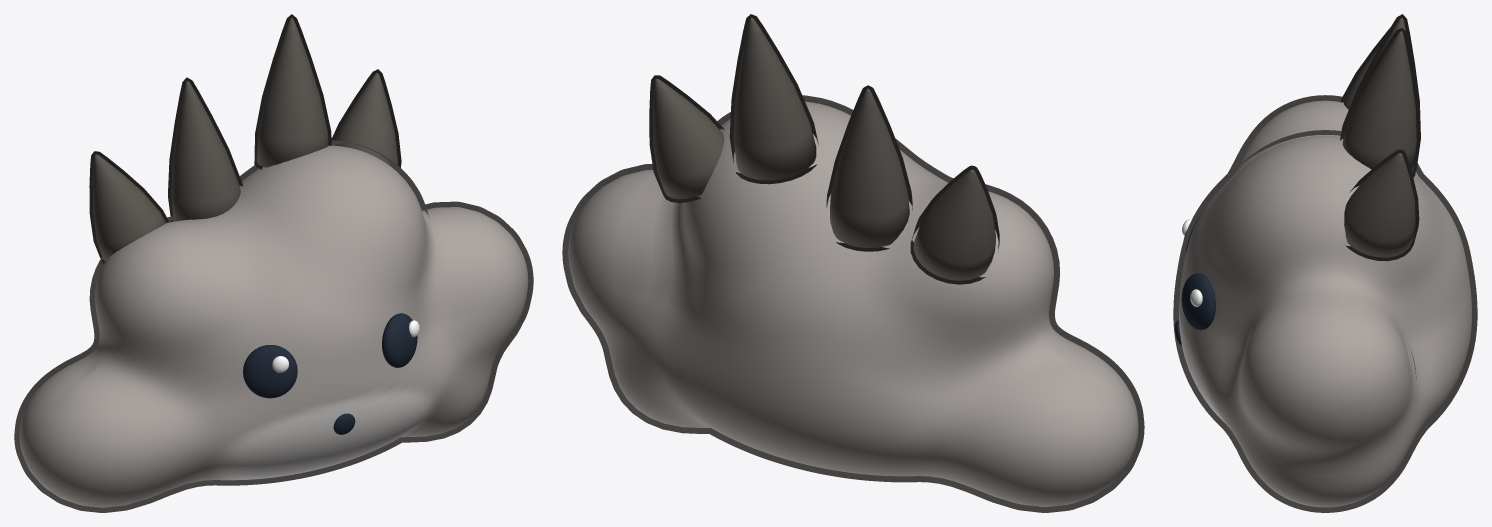
Rendered from rock.glb.
3 views of the same model, side by side, from view 1: azimuth 30°, elevation 25°; view 2: azimuth 150°, elevation 25°; view 3: azimuth 270°, elevation 25° (orthographic). The views are drawn at different scales.
Visible parts, largest first — view 1: body, spike.002, spike.001, spike, spike.003, eye, eye.001; view 2: body, spike.002, spike.001, spike, spike.003; view 3: body, spike.002, spike.003, eye.001, spike.001, spike.
Boxes of the visible parts, box(x1,y1,x2,y2) form: body: box(14, 140, 533, 512); spike.002: box(254, 14, 331, 169); spike.001: box(168, 77, 242, 221); spike: box(89, 151, 168, 263); spike.003: box(331, 69, 401, 168); eye: box(243, 345, 297, 398); eye.001: box(382, 313, 417, 367); body: box(562, 95, 1144, 512); spike.002: box(729, 14, 818, 184); spike.001: box(826, 85, 912, 251); spike: box(910, 165, 999, 284); spike.003: box(649, 75, 724, 202); body: box(1173, 95, 1477, 512); spike.002: box(1340, 28, 1420, 177); spike.003: box(1344, 149, 1419, 261); eye.001: box(1181, 273, 1215, 330); spike.001: box(1340, 14, 1420, 170); spike: box(1340, 27, 1390, 109).
Size of the model in its own units: 2.35 by 1.87 by 1.2.
